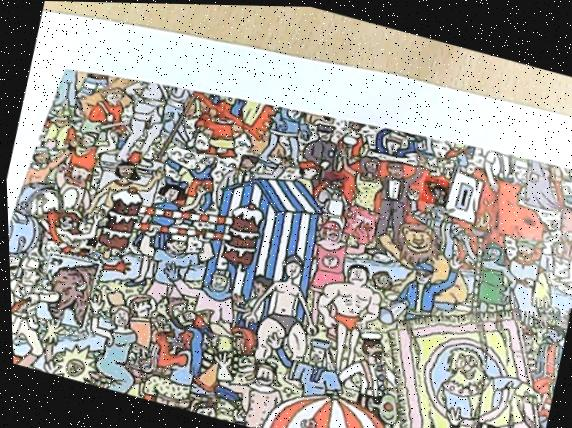waldo: (418, 173, 450, 205)
